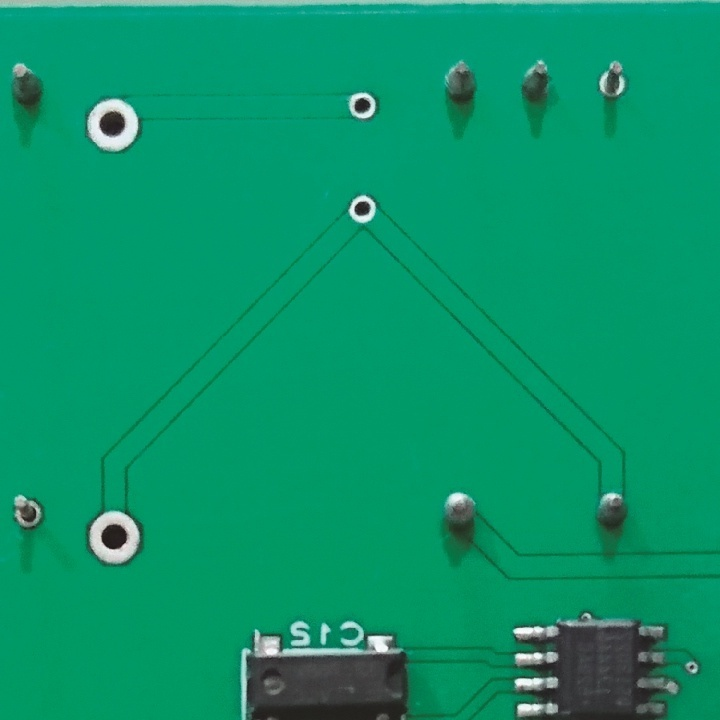F: (83, 509, 144, 567), (84, 96, 141, 157), (596, 59, 632, 107), (8, 489, 44, 533), (345, 88, 383, 124), (346, 190, 379, 225)
